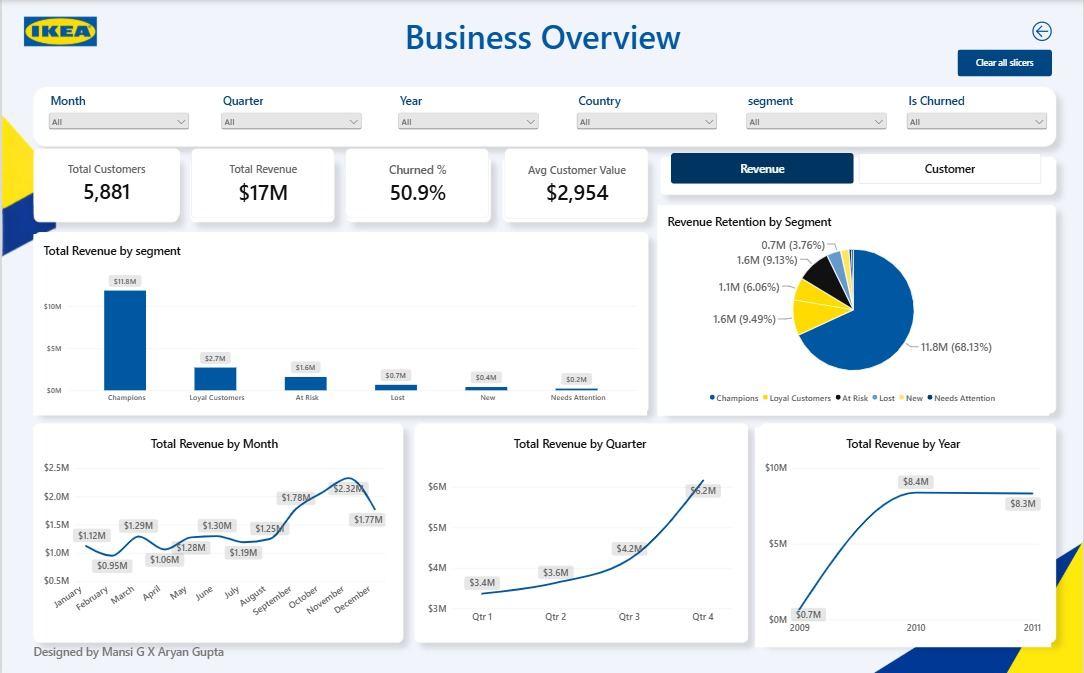

The page's visual inventory and layout, read from the dashboard file:
{"tool":"powerbi","page":{"name":"Overview","canvas":[1750,1100],"ordinal":1},"visuals":[{"type":"cardVisual","fields":{"Data":["Sheet1.Total Customers"]},"box":[51.6,240,237.5,113.6],"z":0},{"type":"columnChart","fields":{"Category":["Sheet1.segment"],"Y":["Sheet1.Total Revenue"]},"box":[51.6,379.5,993.7,294.2],"z":0,"group":"g1"},{"type":"cardVisual","fields":{"Data":["Sheet1.Total Revenue"]},"box":[307.2,240,232.3,113.6],"z":1000},{"type":"pieChart","title":"Revenue Retention by Segment","fields":{"Category":["Sheet1.segment"],"Series":["Sheet1.IsChurned"],"Y":["Sum(Sheet1.Revenue)"]},"box":[1063.4,333,635,340.7],"z":1000,"group":"g1"},{"type":"cardVisual","fields":{"Data":["Sheet1.Churned %"]},"box":[557.5,240,232.3,113.6],"z":2000},{"type":"lineChart","fields":{"Y":["Sheet1.Total Revenue"],"Category":["Sheet1.InvoiceMonth.Variation.Date Hierarchy.Quarter"]},"box":[673.7,691.8,526.5,338.1],"z":2000,"group":"g1"},{"type":"cardVisual","fields":{"Data":["Sheet1.Avg Customer Value"]},"box":[813.1,240,233.3,114.2],"z":3000},{"type":"lineChart","fields":{"Y":["Sheet1.Total Revenue"],"Category":["Sheet1.InvoiceMonth.Variation.Date Hierarchy.Year"]},"box":[1220.8,691.8,480.1,356.2],"z":3000,"group":"g1"},{"type":"slicer","fields":{"Values":["Sheet1.InvoiceDate.Variation.Date Hierarchy.Month"]},"box":[69.7,149.7,237.5,90.3],"z":4000},{"type":"lineChart","fields":{"Y":["Sheet1.Total Revenue"],"Category":["Sheet1.InvoiceMonth.Variation.Date Hierarchy.Month"]},"box":[51.6,691.8,585.9,338.1],"z":4000,"group":"g1"},{"type":"slicer","fields":{"Values":["Sheet1.InvoiceDate.Variation.Date Hierarchy.Year"]},"box":[637.5,149.7,237.5,90.3],"z":5000},{"type":"slicer","fields":{"Values":["Sheet1.Country"]},"box":[926.6,149.7,237.5,90.3],"z":6000},{"type":"slicer","fields":{"Values":["Sheet1.segment"]},"box":[1200.2,149.7,237.5,90.3],"z":7000},{"type":"slicer","fields":{"Values":["Sheet1.IsChurned"]},"box":[1460.9,149.7,237.5,90.3],"z":8000},{"type":"slicer","fields":{"Values":["Sheet1.InvoiceDate.Variation.Date Hierarchy.Quarter"]},"box":[351,149.7,237.5,90.3],"z":9000},{"type":"group","id":"g1","title":"Revenue","box":[51.6,333,1649.3,715],"z":11000},{"type":"bookmarkNavigator","box":[1083.7,247.2,600,50],"z":12000},{"type":"textbox","box":[51,1042.5,352.4,58.3],"z":13000},{"type":"image","box":[0,0,189.5,102.1],"z":14000},{"type":"textbox","box":[582.2,21.9,585.7,80.2],"z":15000},{"type":"actionButton","box":[1635.5,21.9,99.6,58.3],"z":16000},{"type":"actionButton","box":[1548,80.2,153.1,43.7],"z":17000}]}

Visuals, with their boxes in screenshot pixels (x1, y1, x2, y2), scaled from the page's 1750x1100 canvas onto the 1084x673 screenshot:
cardVisual - Sheet1.Total Customers: (32,147,179,216)
columnChart - Sheet1.segment x Sheet1.Total Revenue: (32,232,647,412)
cardVisual - Sheet1.Total Revenue: (190,147,334,216)
"Revenue Retention by Segment" pieChart: (659,204,1052,412)
cardVisual - Sheet1.Churned %: (345,147,489,216)
lineChart - Sheet1.Total Revenue x Sheet1.InvoiceMonth.Variation.Date Hierarchy.Quarter: (417,423,743,630)
cardVisual - Sheet1.Avg Customer Value: (504,147,648,217)
lineChart - Sheet1.Total Revenue x Sheet1.InvoiceMonth.Variation.Date Hierarchy.Year: (756,423,1054,641)
slicer - Sheet1.InvoiceDate.Variation.Date Hierarchy.Month: (43,92,190,147)
lineChart - Sheet1.Total Revenue x Sheet1.InvoiceMonth.Variation.Date Hierarchy.Month: (32,423,395,630)
slicer - Sheet1.InvoiceDate.Variation.Date Hierarchy.Year: (395,92,542,147)
slicer - Sheet1.Country: (574,92,721,147)
slicer - Sheet1.segment: (743,92,891,147)
slicer - Sheet1.IsChurned: (905,92,1052,147)
slicer - Sheet1.InvoiceDate.Variation.Date Hierarchy.Quarter: (217,92,365,147)
"Revenue" group: (32,204,1054,641)
bookmarkNavigator: (671,151,1043,182)
textbox: (32,638,250,672)
image: (0,0,117,62)
textbox: (361,13,723,62)
actionButton: (1013,13,1075,49)
actionButton: (959,49,1054,76)
